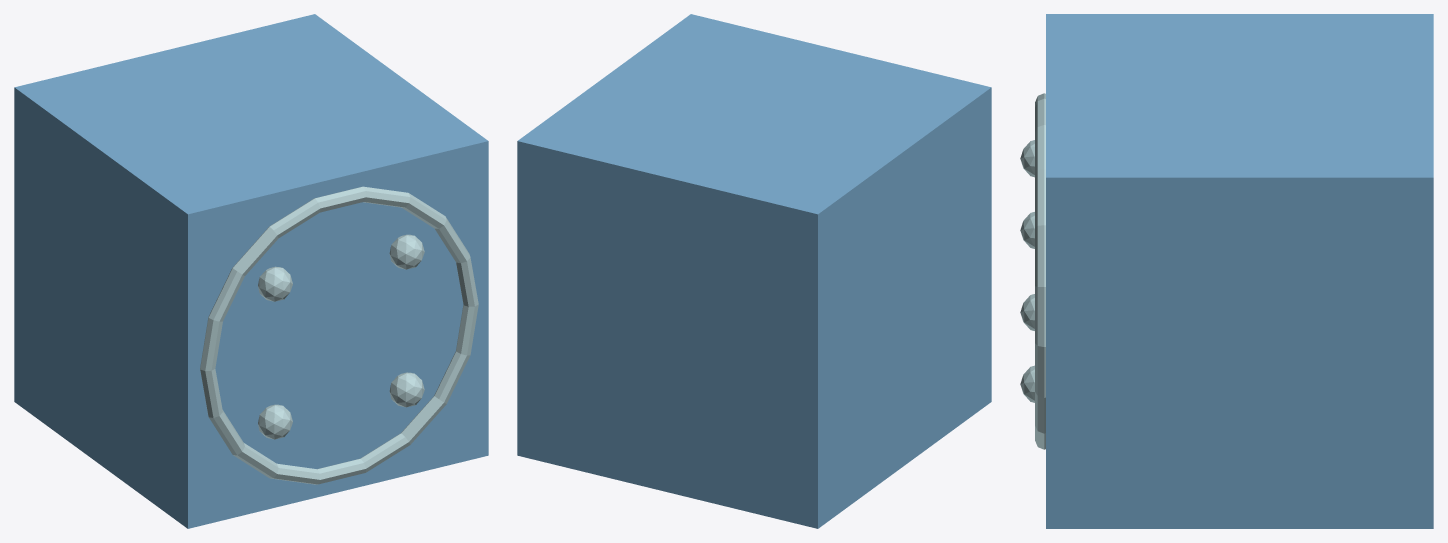
The model's file is frostnova.glb.
The picture shows the model from 3 angles, left to right: view 1: azimuth 30°, elevation 25°; view 2: azimuth 150°, elevation 25°; view 3: azimuth 270°, elevation 25°; orthographic projection. The views are drawn at different scales.
Visible parts, largest first — view 1: world; view 2: world; view 3: world.
Part boxes in pixels (<box>): world: <box>14,14,488,528</box>; world: <box>517,14,991,528</box>; world: <box>1020,14,1433,528</box>.
Size of the model in its own units: 1.05 by 1.05 by 1.12.
